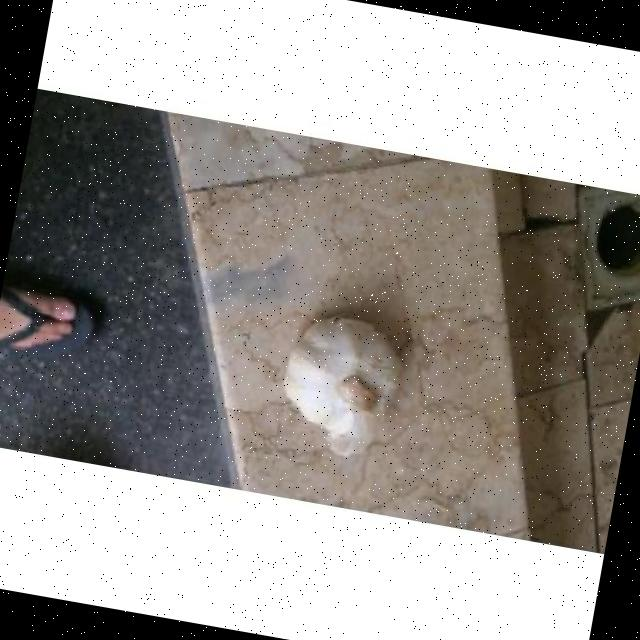garlic: (282, 317, 400, 456)
